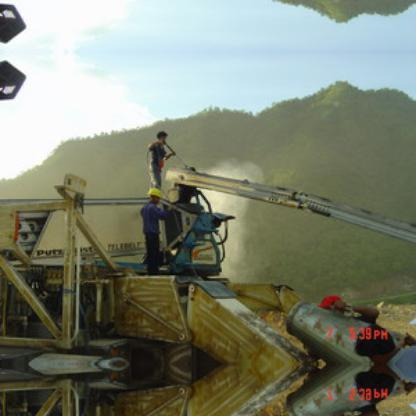helmet: (144, 184, 169, 203)
